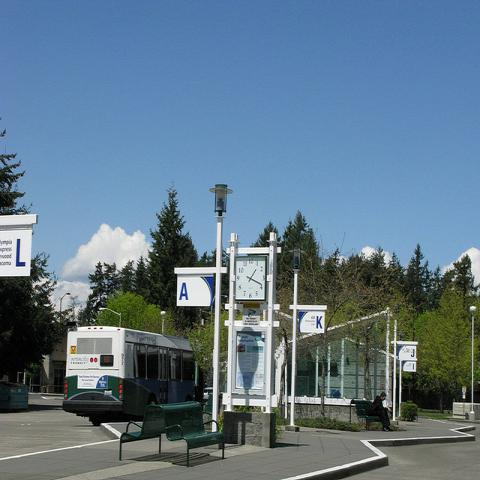bus: (62, 325, 204, 427)
